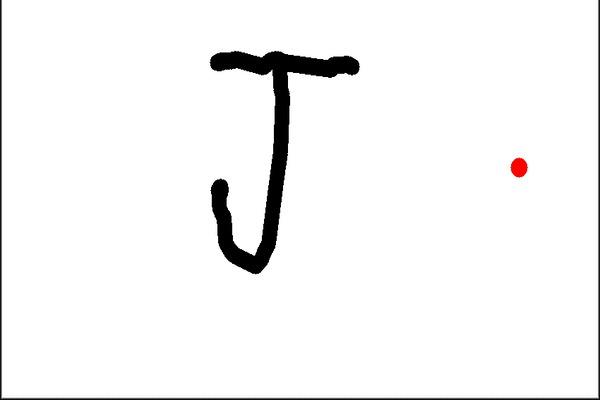J: (194, 38, 362, 273)
